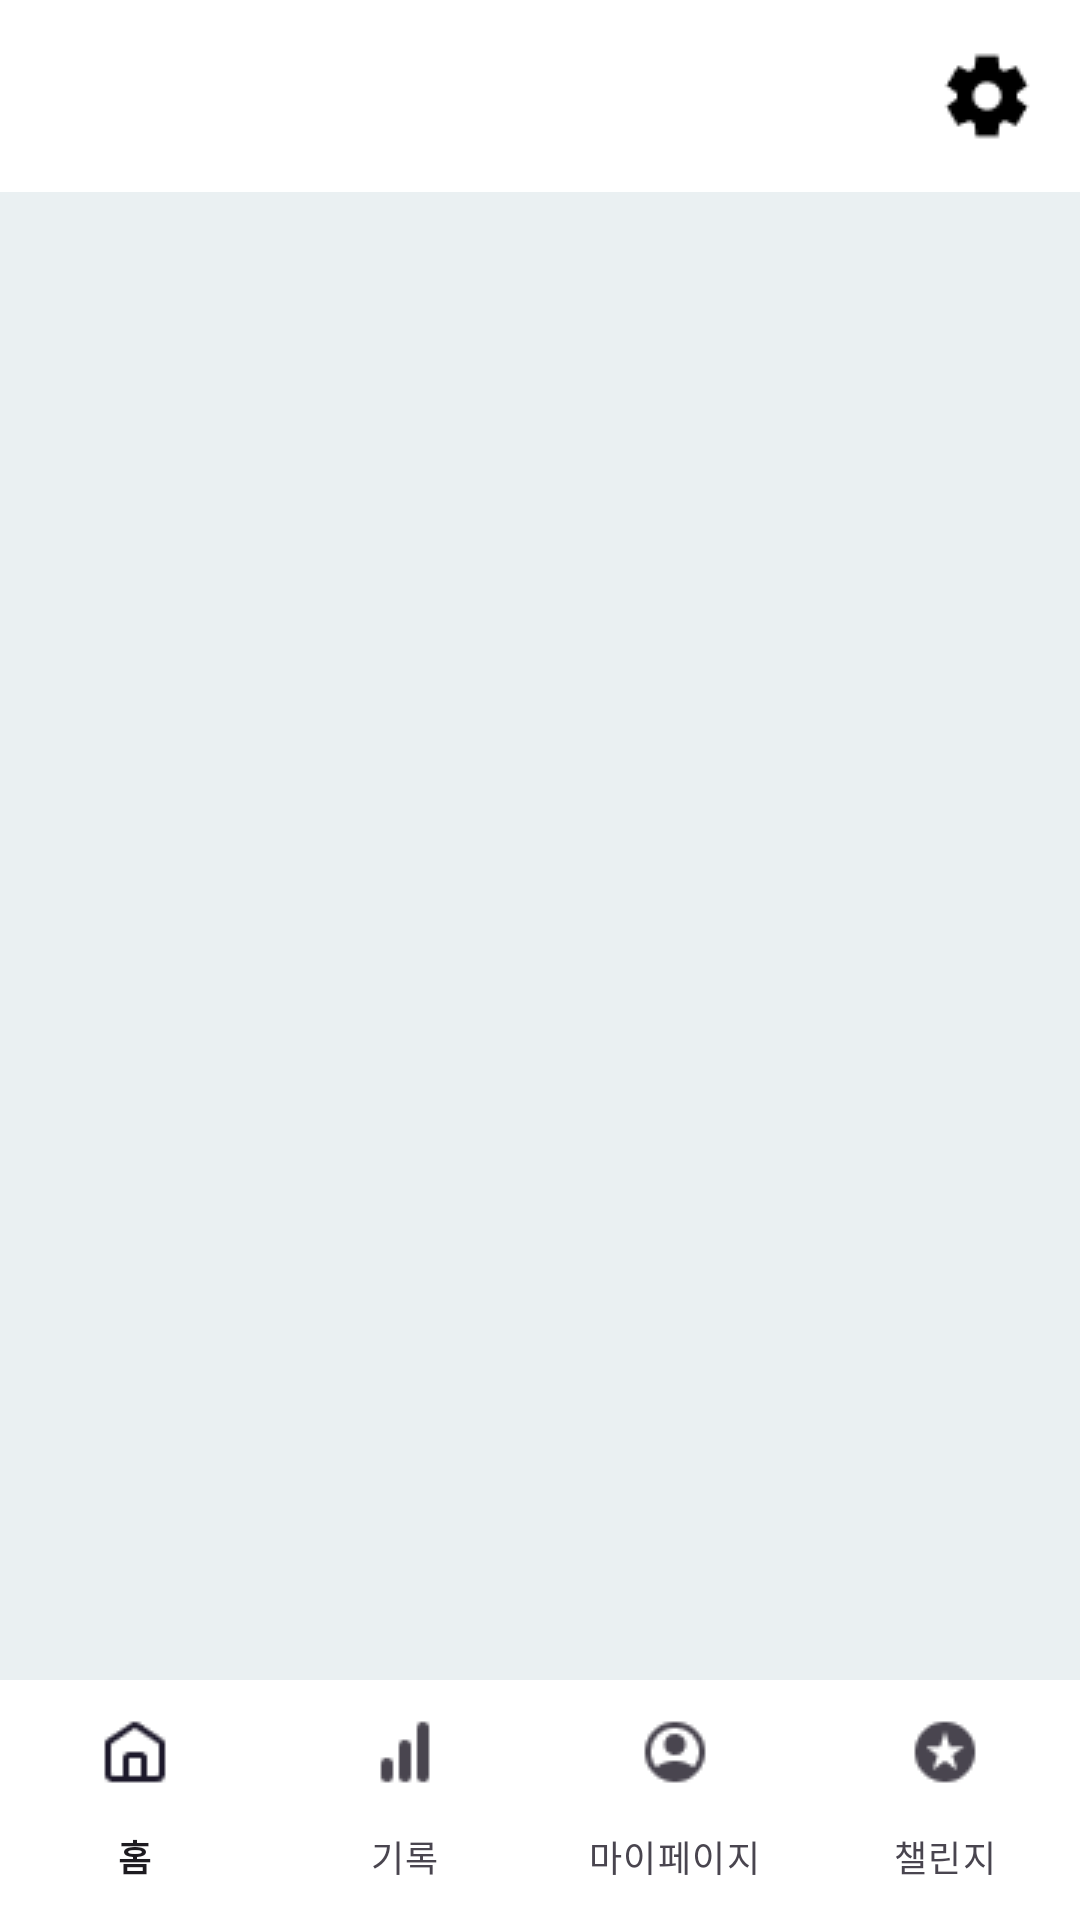

Where icons sit on this 1080*1920 app screen, as [x1,y1,x2,y2]:
settings: [945,53,1029,139]
